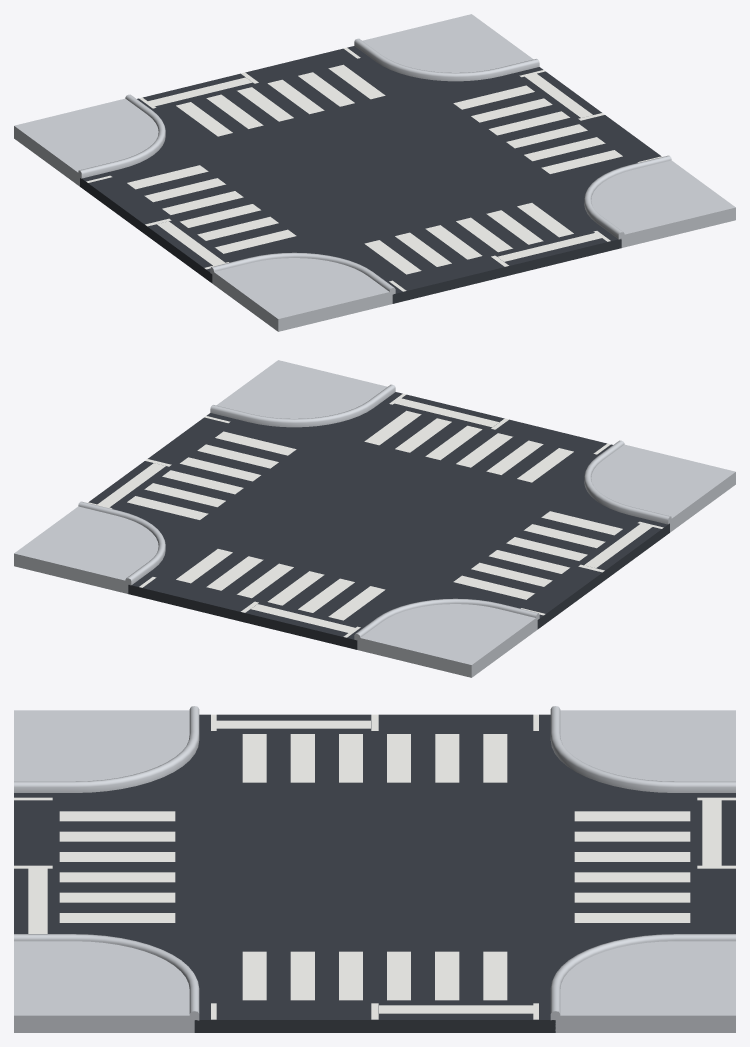
File: rua_cruzamento_x_faixas.glb
The picture shows the model from 3 angles, top to bottom: view 1: azimuth 30°, elevation 25°; view 2: azimuth 150°, elevation 25°; view 3: azimuth 270°, elevation 25°; orthographic projection. The views are drawn at different scales.
Parts seen in each view (by area): view 1: rua_cruzamento_x_faixas; view 2: rua_cruzamento_x_faixas; view 3: rua_cruzamento_x_faixas.
Boxes of the visible parts, left/top/right/bottom form: rua_cruzamento_x_faixas: left=14, top=14, right=735, bottom=331; rua_cruzamento_x_faixas: left=14, top=360, right=735, bottom=677; rua_cruzamento_x_faixas: left=14, top=706, right=735, bottom=1032.
Bounding box in the file's own units: 15 × 0.5 × 15.
Materials: 1 (1 with a texture image).
